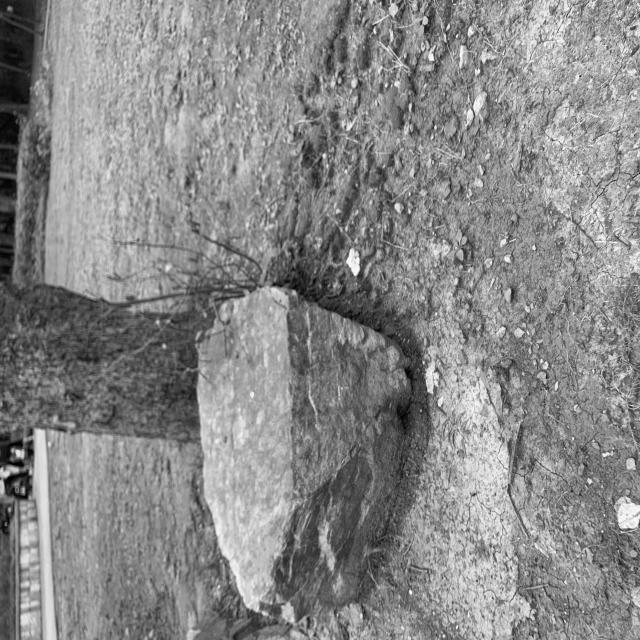Stone: (198, 288, 408, 618)
